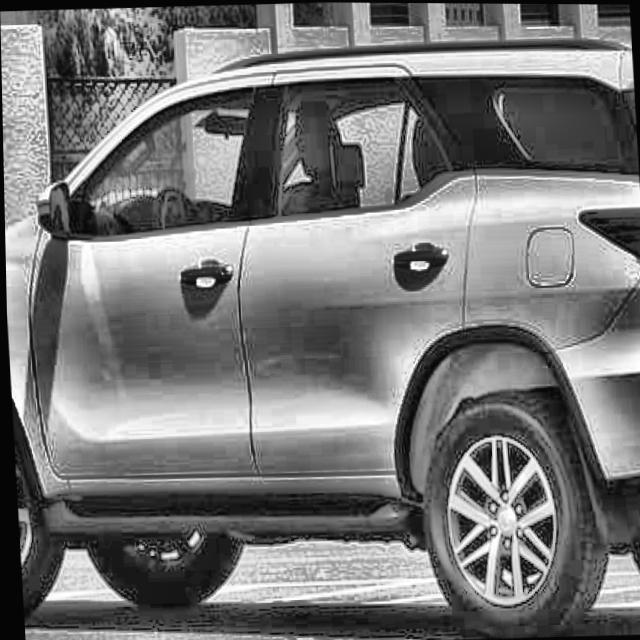light_vehicle: (1, 31, 640, 640)
